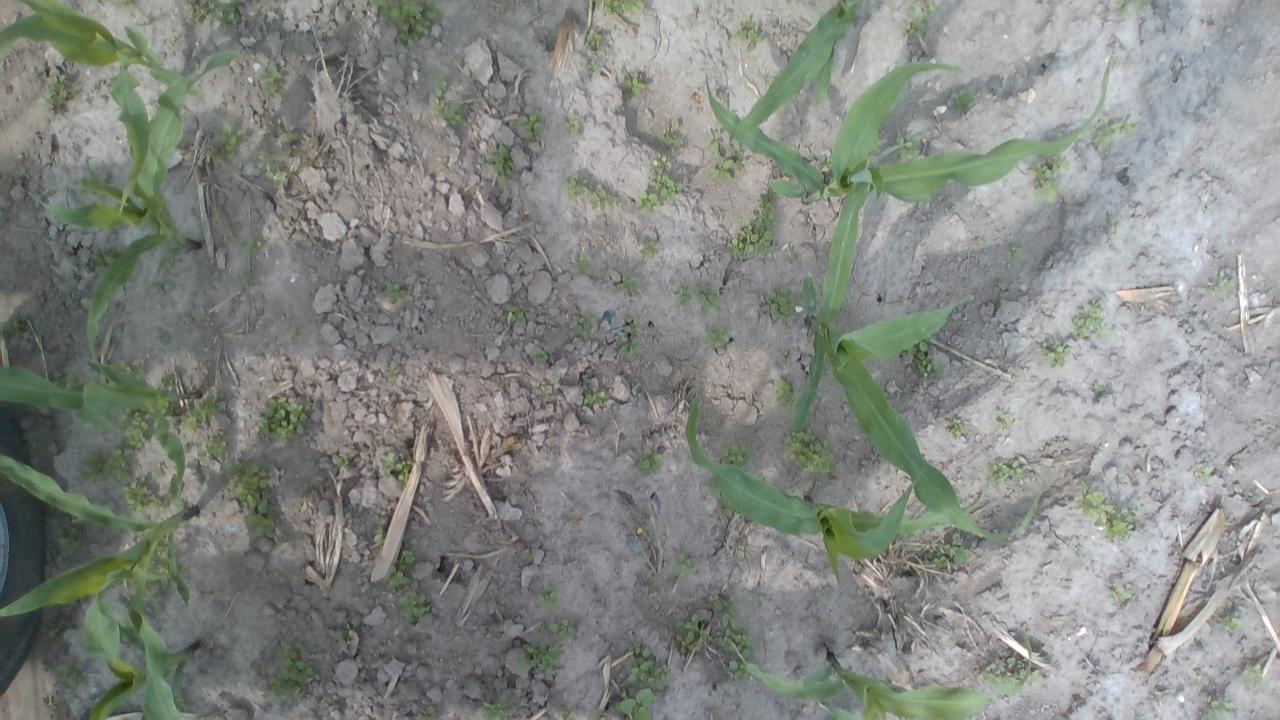Maize: (703, 61, 1113, 329), (790, 177, 1036, 539), (44, 46, 242, 391), (687, 392, 1039, 584), (0, 451, 197, 682), (0, 0, 197, 219), (0, 358, 196, 521), (730, 636, 1035, 720), (75, 566, 203, 720), (735, 0, 856, 136)
Weeds: (1068, 479, 1140, 542), (726, 190, 782, 259), (372, 0, 442, 47), (262, 638, 316, 698), (633, 151, 684, 211), (252, 395, 312, 445), (976, 656, 1042, 700), (780, 424, 834, 476), (624, 638, 674, 694), (702, 127, 749, 184), (224, 460, 272, 514), (78, 446, 138, 486), (1025, 153, 1070, 202), (50, 511, 92, 558), (718, 628, 752, 681), (934, 532, 980, 570), (674, 612, 712, 657), (904, 332, 941, 378), (114, 404, 150, 450), (518, 640, 564, 675), (1089, 114, 1136, 148), (484, 140, 518, 185), (180, 392, 218, 432), (1073, 302, 1111, 342), (762, 284, 801, 320), (902, 0, 936, 41), (121, 481, 168, 510), (386, 550, 420, 588), (710, 594, 744, 631), (378, 450, 411, 488), (39, 74, 68, 116), (614, 688, 652, 720), (218, 121, 248, 161), (256, 148, 289, 184), (48, 601, 76, 641), (774, 374, 800, 417), (732, 16, 763, 52), (617, 317, 644, 358), (514, 110, 548, 142), (893, 128, 925, 162), (720, 440, 756, 470), (256, 62, 286, 96), (989, 456, 1024, 485), (241, 512, 280, 538), (399, 592, 432, 622), (205, 0, 242, 25), (1042, 338, 1072, 368), (562, 174, 594, 202), (88, 244, 125, 268), (1200, 697, 1238, 720), (547, 616, 578, 644), (694, 280, 721, 312), (80, 164, 106, 197), (949, 85, 977, 115), (534, 586, 563, 614), (706, 478, 732, 509), (482, 695, 514, 720), (429, 70, 448, 112), (0, 313, 31, 337), (588, 183, 616, 209), (200, 438, 230, 462), (148, 534, 164, 578), (600, 0, 644, 16), (388, 278, 413, 304), (660, 119, 682, 148), (621, 71, 645, 97), (50, 366, 78, 388), (614, 274, 642, 296), (674, 551, 698, 576), (671, 280, 694, 306), (56, 659, 81, 682), (640, 446, 662, 472), (445, 100, 466, 127), (1210, 276, 1233, 300), (575, 310, 594, 338), (1238, 662, 1264, 682), (584, 384, 609, 404), (944, 416, 964, 441), (704, 328, 731, 346), (372, 517, 388, 546), (1190, 463, 1212, 484), (1108, 583, 1131, 602), (562, 109, 582, 129), (638, 238, 658, 258), (504, 302, 524, 322), (996, 414, 1016, 434), (143, 587, 162, 608), (113, 359, 136, 376), (574, 253, 592, 274), (242, 238, 264, 255), (1220, 614, 1242, 631), (336, 620, 351, 644), (416, 705, 439, 720), (585, 29, 601, 49), (160, 374, 177, 391), (534, 344, 552, 360), (336, 454, 352, 469), (1116, 0, 1130, 16), (1006, 246, 1024, 258), (820, 154, 835, 168), (752, 592, 766, 607), (591, 710, 611, 720), (586, 62, 600, 75), (560, 707, 574, 720), (1074, 544, 1086, 559), (386, 367, 401, 378), (114, 0, 132, 9), (1132, 0, 1147, 10), (814, 480, 822, 497), (783, 350, 793, 361), (521, 550, 529, 560), (648, 584, 656, 592)
